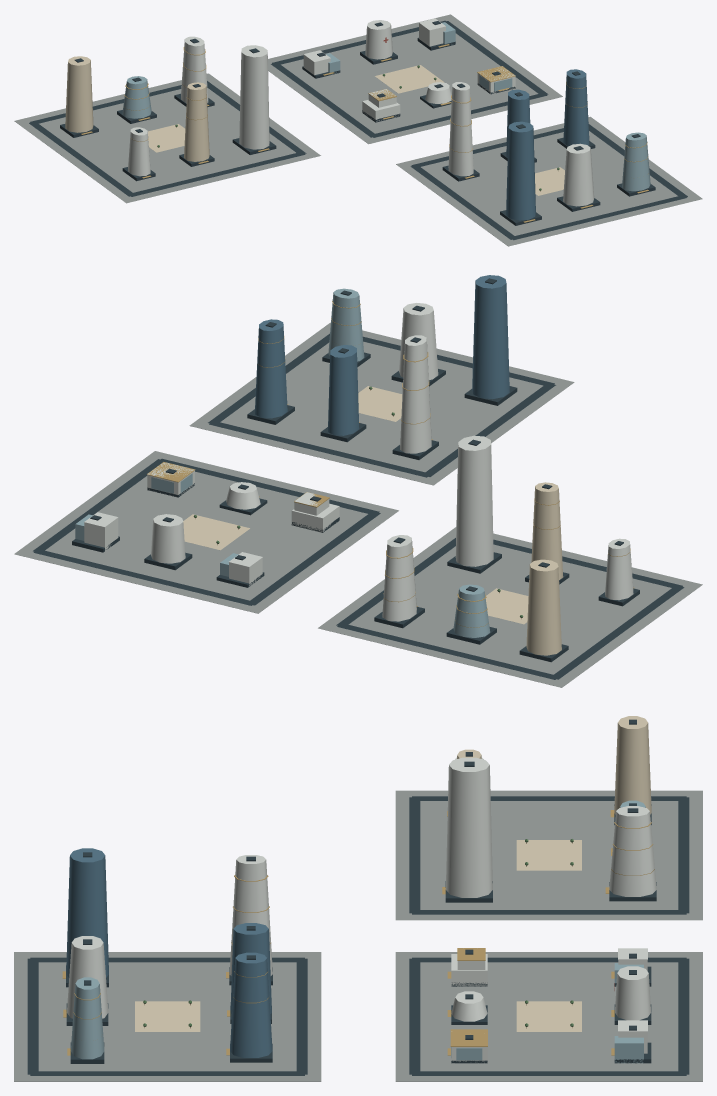
Rendered from GC-TILE-14-22.glb.
3 views of the same model, one above another, from view 1: azimuth 30°, elevation 25°; view 2: azimuth 150°, elevation 25°; view 3: azimuth 270°, elevation 25° (orthographic). The views are drawn at different scales.
Parts seen in each view (by area): view 1: GC-TILE-14-22-paving, GC-TILE-14-22-white, GC-TILE-14-22-dark, GC-TILE-14-22-ivory, GC-TILE-14-22-blue, GC-TILE-14-22-glass, GC-TILE-14-22-gold; view 2: GC-TILE-14-22-paving, GC-TILE-14-22-white, GC-TILE-14-22-dark, GC-TILE-14-22-blue, GC-TILE-14-22-ivory, GC-TILE-14-22-glass, GC-TILE-14-22-gold; view 3: GC-TILE-14-22-paving, GC-TILE-14-22-white, GC-TILE-14-22-dark, GC-TILE-14-22-ivory, GC-TILE-14-22-blue, GC-TILE-14-22-glass, GC-TILE-14-22-gold.
Part boxes in pixels (x1,y1,x2,y2): GC-TILE-14-22-paving: (14,14,702,246); GC-TILE-14-22-white: (128,18,594,206); GC-TILE-14-22-dark: (29,20,687,240); GC-TILE-14-22-ivory: (65,56,564,195); GC-TILE-14-22-blue: (506,69,589,220); GC-TILE-14-22-glass: (122,22,650,191); GC-TILE-14-22-gold: (81,44,648,222); GC-TILE-14-22-paving: (14,322,702,687); GC-TILE-14-22-white: (84,303,633,621); GC-TILE-14-22-dark: (33,278,684,679); GC-TILE-14-22-blue: (255,275,509,435); GC-TILE-14-22-ivory: (183,386,563,655); GC-TILE-14-22-glass: (75,288,490,637); GC-TILE-14-22-gold: (147,301,634,627); GC-TILE-14-22-paving: (14,790,702,1081); GC-TILE-14-22-white: (67,757,656,1062); GC-TILE-14-22-dark: (27,719,689,1075); GC-TILE-14-22-ivory: (135,716,651,1031); GC-TILE-14-22-blue: (66,848,272,1057); GC-TILE-14-22-glass: (70,800,645,1063); GC-TILE-14-22-gold: (62,810,654,1055).
Size of the model in its own units: 758 by 158 by 758.
